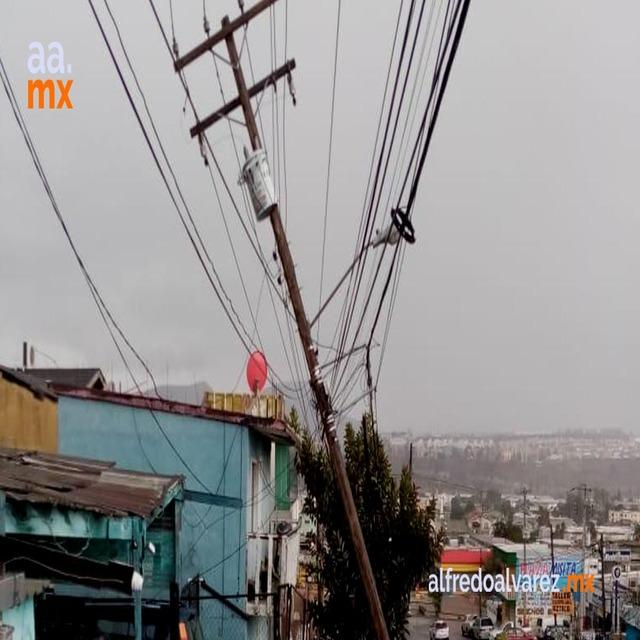Inclined Pole: (158, 0, 426, 639)
